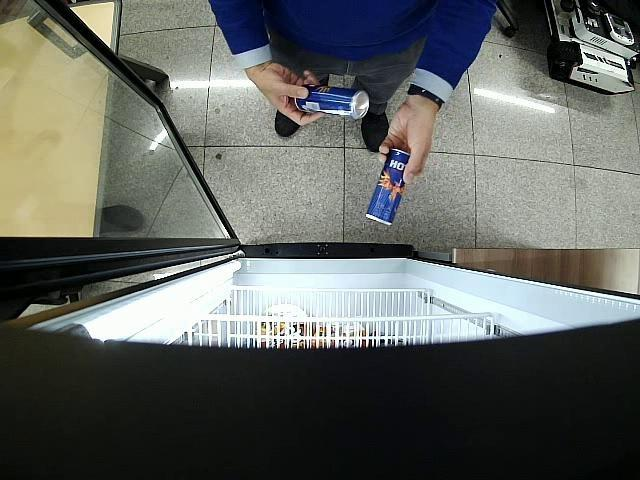16_hot6: (366, 150, 411, 226), (295, 84, 371, 120)
